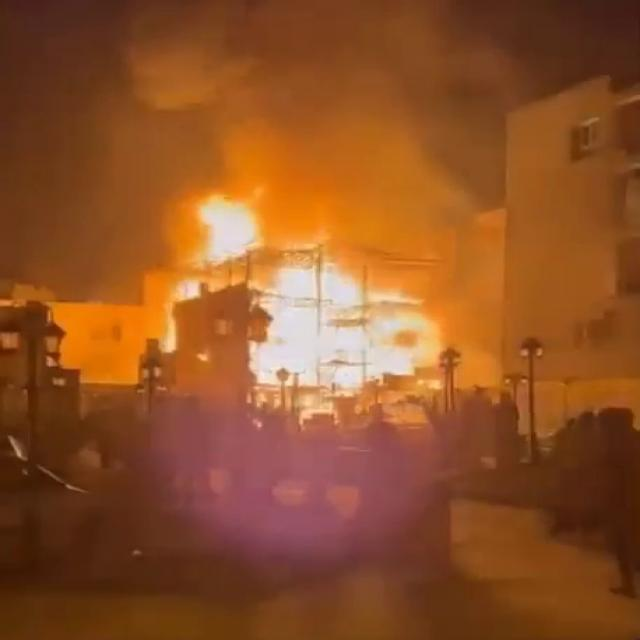Fire: (250, 261, 443, 389), (198, 192, 267, 266)
